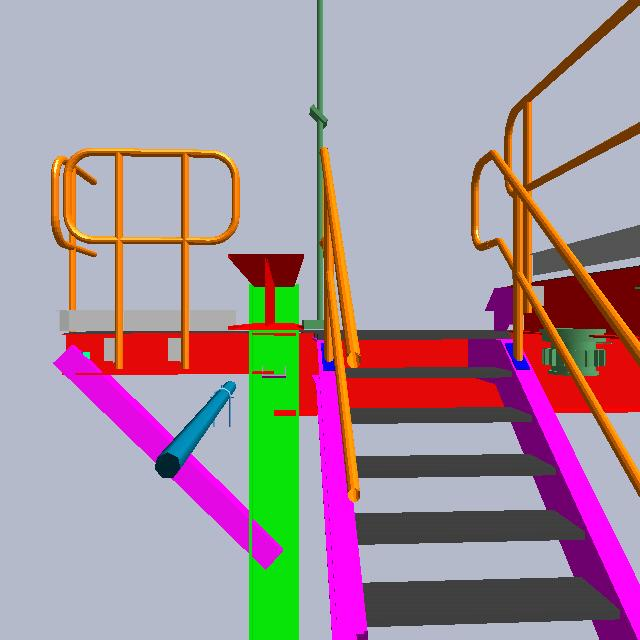Poste: (308, 1, 328, 339)
